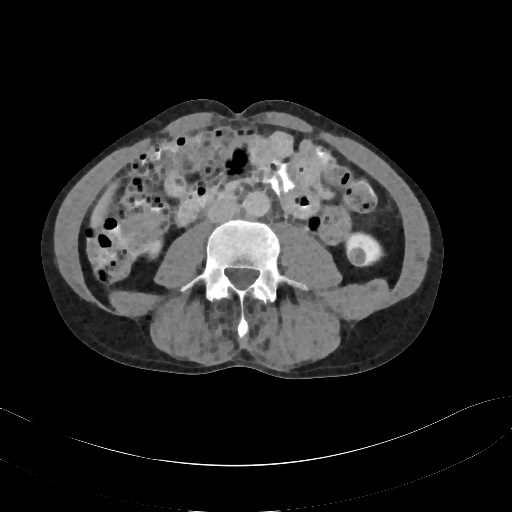Lesion: (348, 245, 369, 268)
